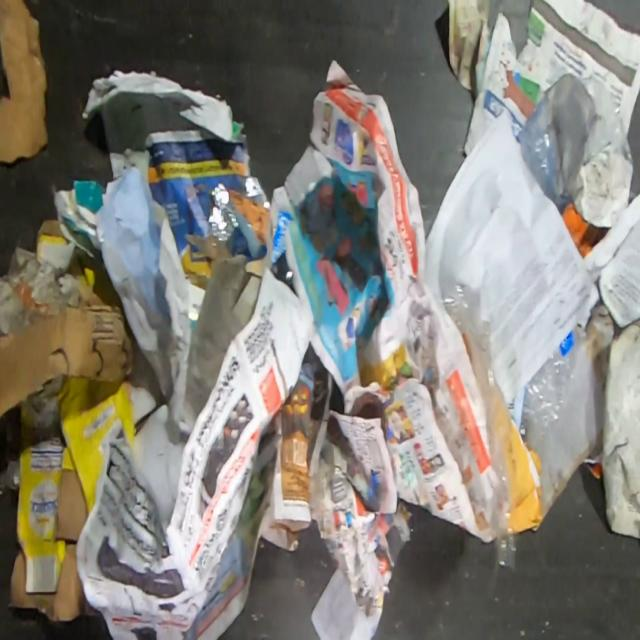cardboard: (8, 375, 156, 622), (536, 304, 614, 522), (0, 303, 134, 419), (36, 219, 96, 294)
soft_plastic: (439, 282, 516, 569), (515, 70, 635, 202), (518, 322, 591, 450), (208, 176, 271, 262)
